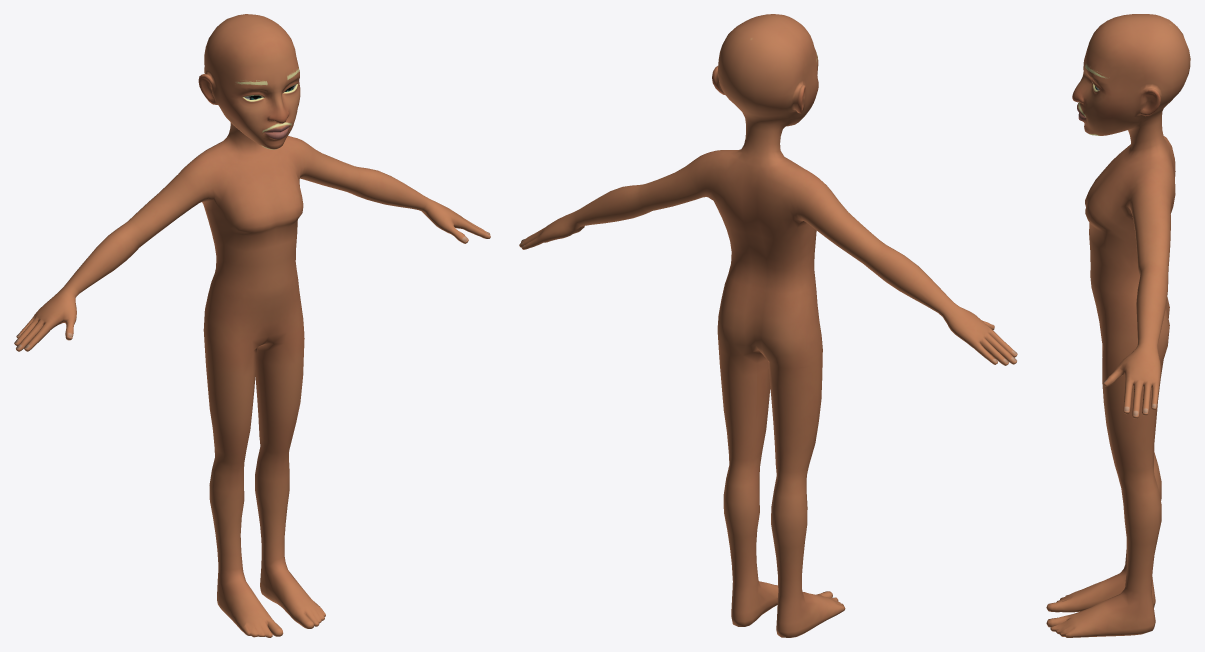
File: frame_0007.glb
3 renders of one model, left to right at view 1: azimuth 30°, elevation 25°; view 2: azimuth 150°, elevation 25°; view 3: azimuth 270°, elevation 25°, orthographic. The views are drawn at different scales.
Visible parts, largest first — view 1: frame_0007_head_geo; view 2: frame_0007_head_geo; view 3: frame_0007_head_geo.
Part boxes in pixels (bbox=[...]): frame_0007_head_geo: bbox=[14, 14, 490, 637]; frame_0007_head_geo: bbox=[519, 14, 1017, 637]; frame_0007_head_geo: bbox=[1046, 14, 1190, 637].
Bounding box in the file's own units: 1.28 × 1.5 × 0.3253.
Materials: 3 (3 with a texture image).
